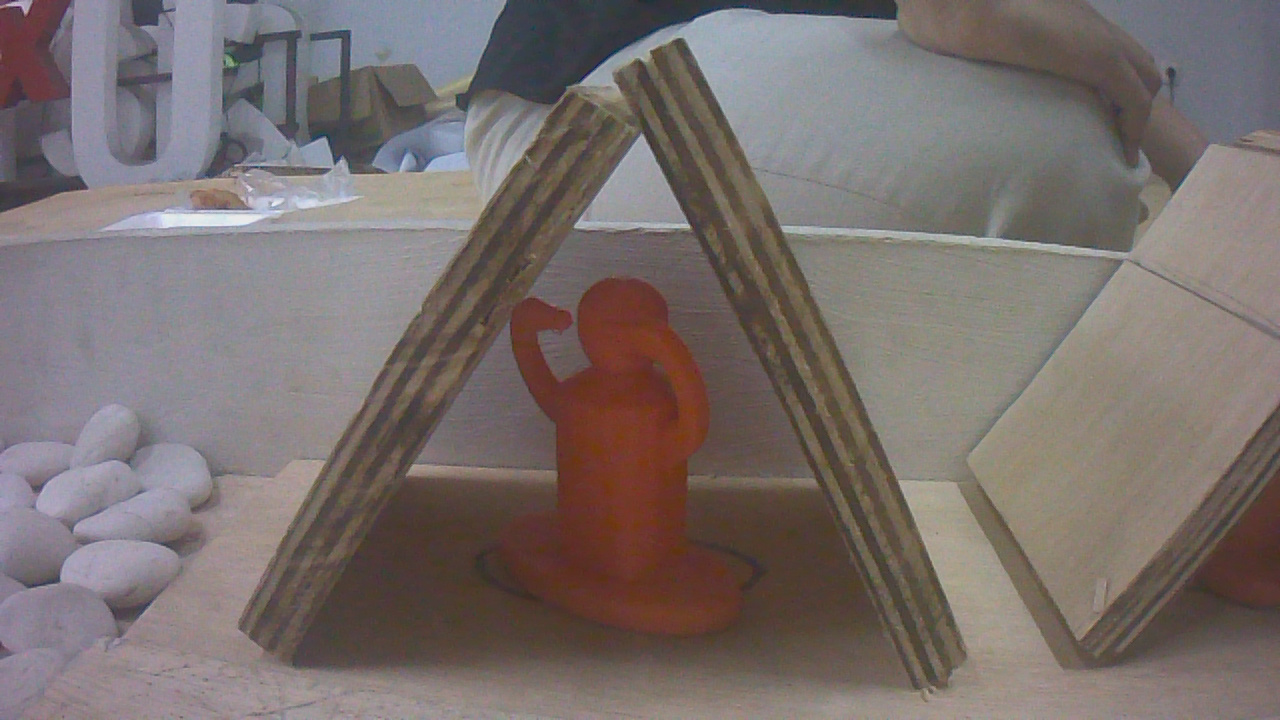real: (487, 270, 737, 652)
